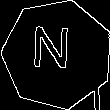N_S: (36, 29, 79, 80)
